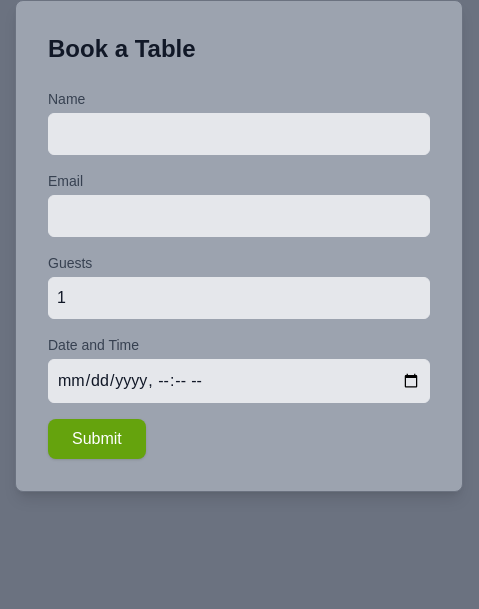
Test case: BookingForm › should display validation error when number of guests is out of range
Replace the text in the number field labelled "Guests" with "0" at (239,298), box [48,277,430,319]
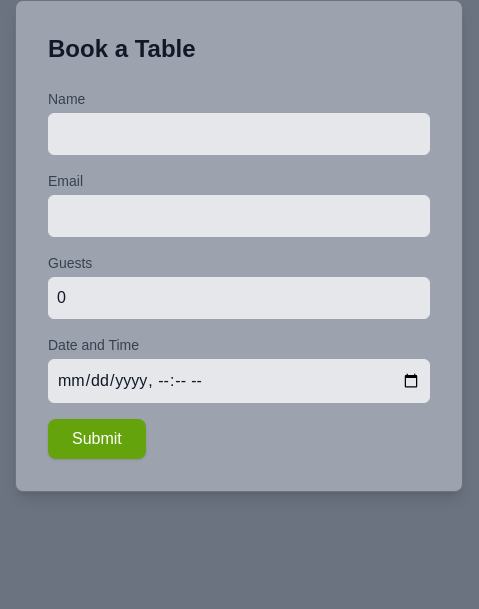
Click the button "Submit" at (97,439), box [48,419,146,459]
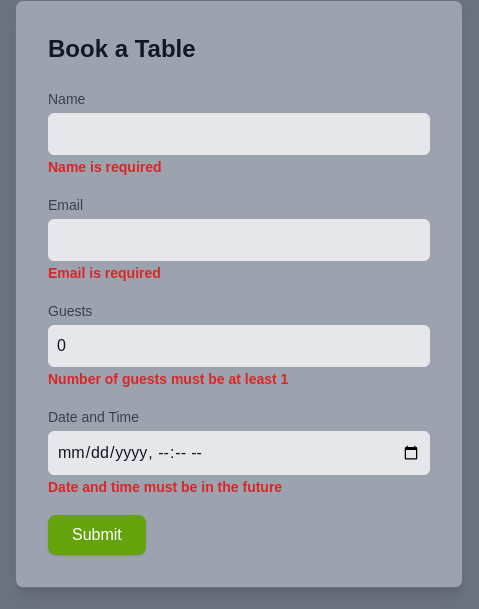
Expected: the text "Number of guests must be at least 1" is shown, [48,371,288,387]
